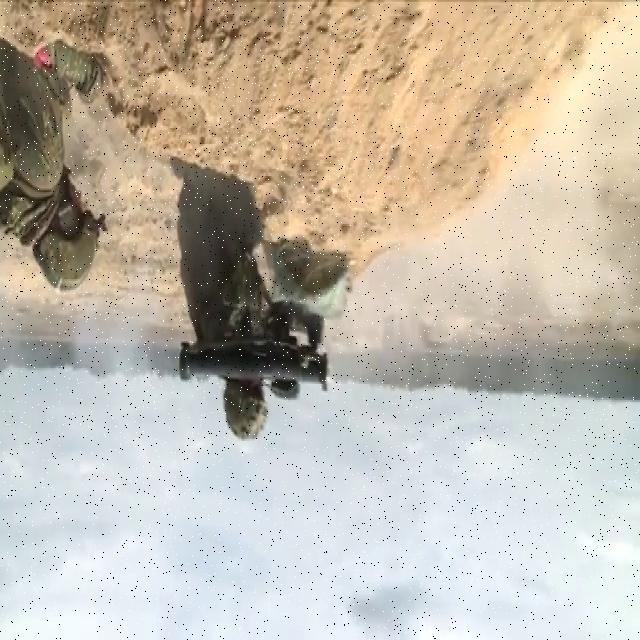bazooka: (176, 347, 338, 392)
